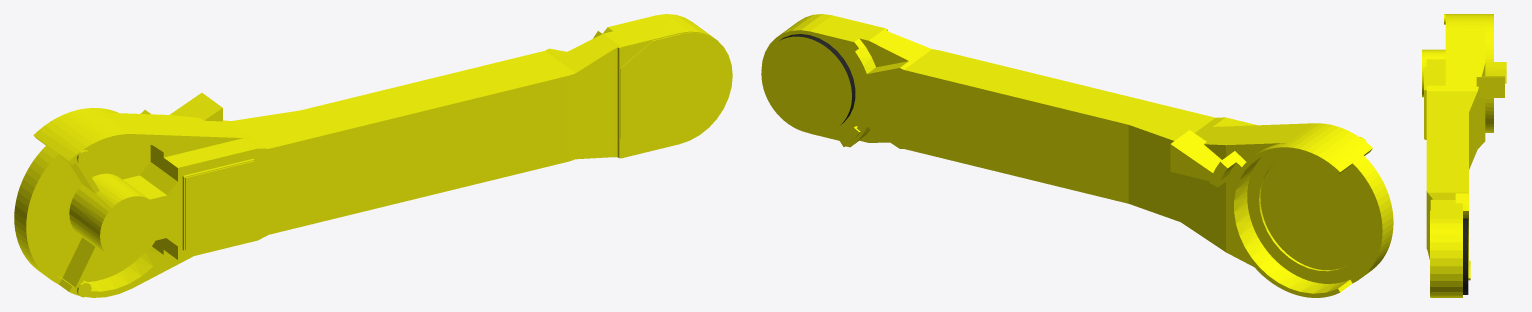
The picture shows the model from 3 angles, left to right: view 1: azimuth 30°, elevation 25°; view 2: azimuth 150°, elevation 25°; view 3: azimuth 270°, elevation 25°; orthographic projection. The views are drawn at different scales.
Parts seen in each view (by area): view 1: node; view 2: node; view 3: node.
Part boxes in pixels (x1,y1,x2,y2): node: (14, 14, 732, 297); node: (761, 14, 1393, 297); node: (1422, 14, 1506, 297).
Bounding box in the file's own units: 1418 × 316 × 254.
